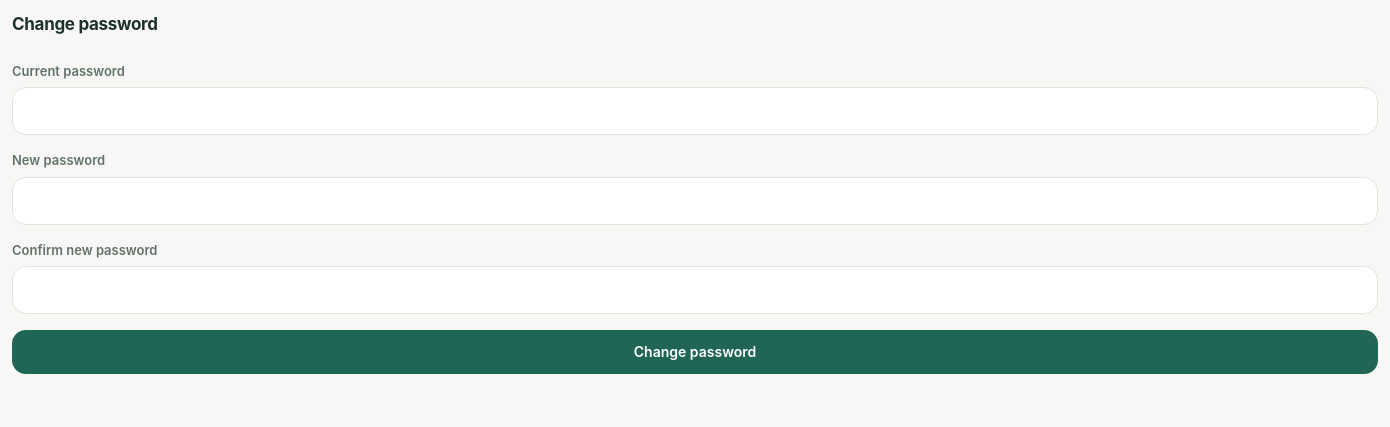
Test: ChangePasswordForm › a policy rejection clears the new-password fields; unknown errors keep every field
The image size is (1390, 427).
In the password field with test id "pw-current": (695, 111) left=12, top=87, right=1378, bottom=135, type "old-password"
In the password field with test id "pw-new": (695, 200) left=12, top=176, right=1378, bottom=224, type "new-password"
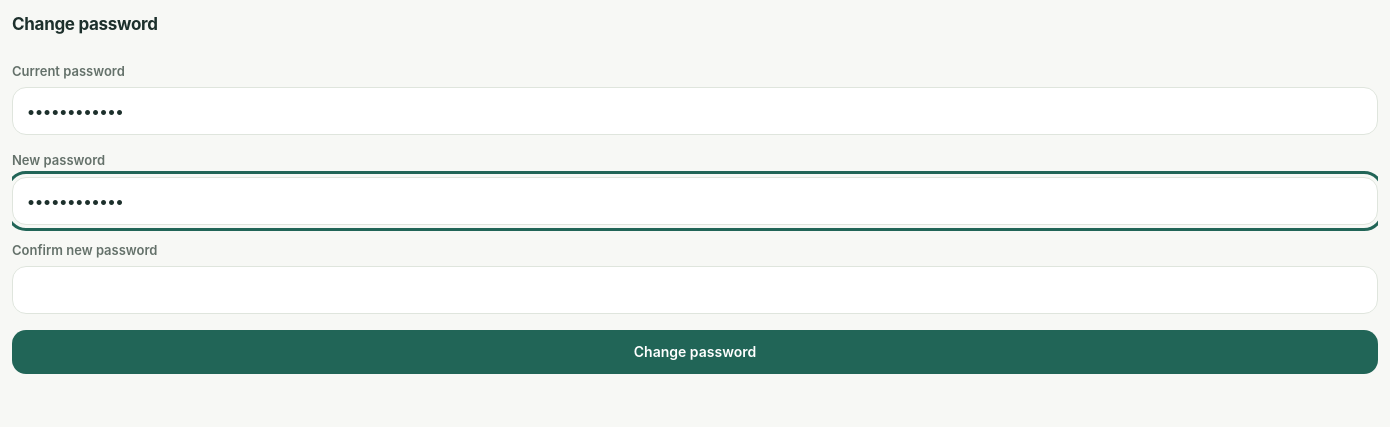
In the password field with test id "pw-confirm": (695, 290) left=12, top=266, right=1378, bottom=314, type "new-password"
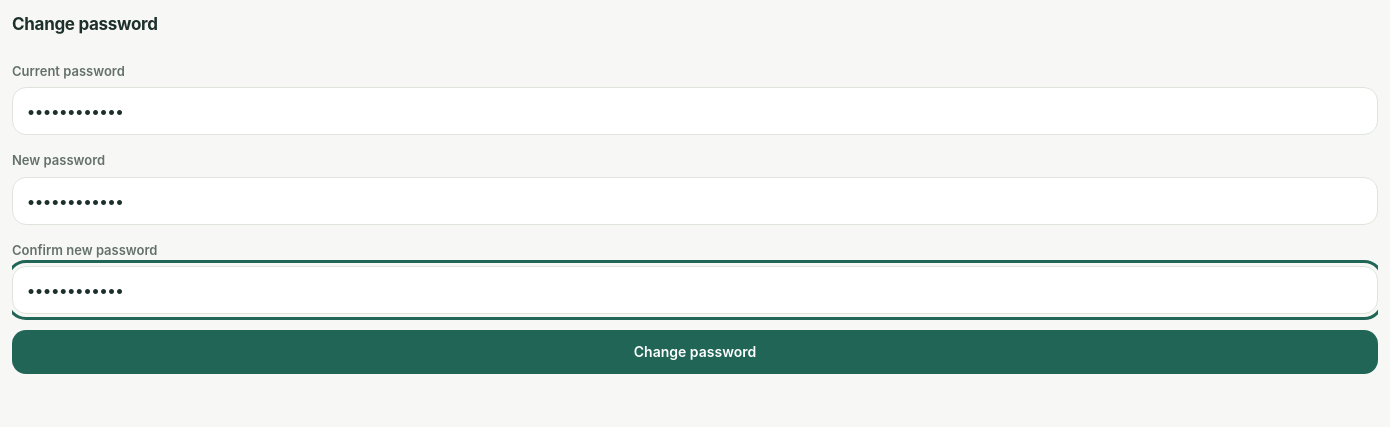
Click the button with test id "pw-submit": (695, 352) left=12, top=330, right=1378, bottom=374
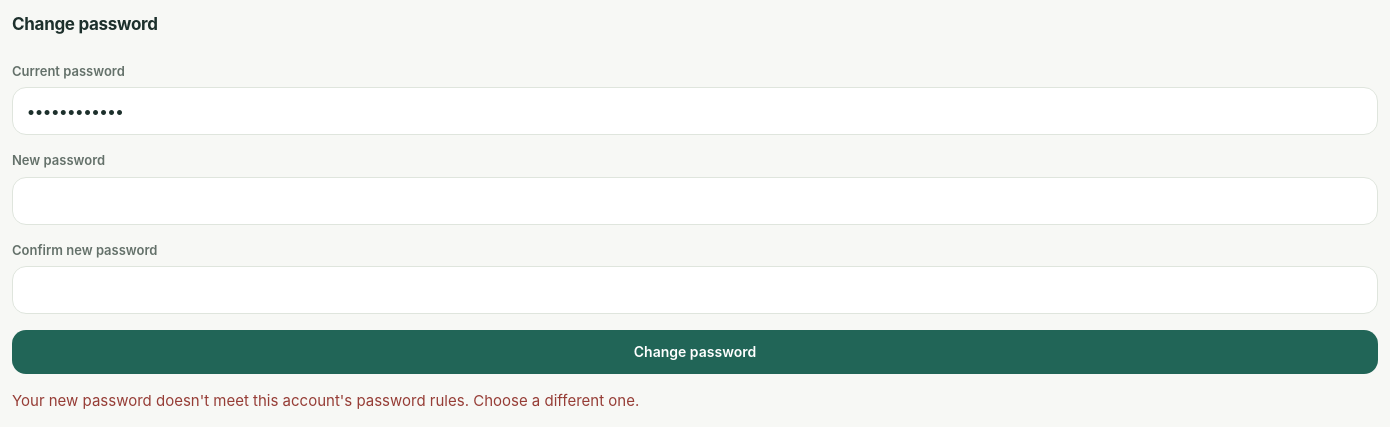
Expected: the password field with test id "pw-new" is empty
Expected: the password field with test id "pw-confirm" is empty, left=12, top=266, right=1378, bottom=314
In the password field with test id "pw-new": (695, 200) left=12, top=176, right=1378, bottom=224, type "another-password"
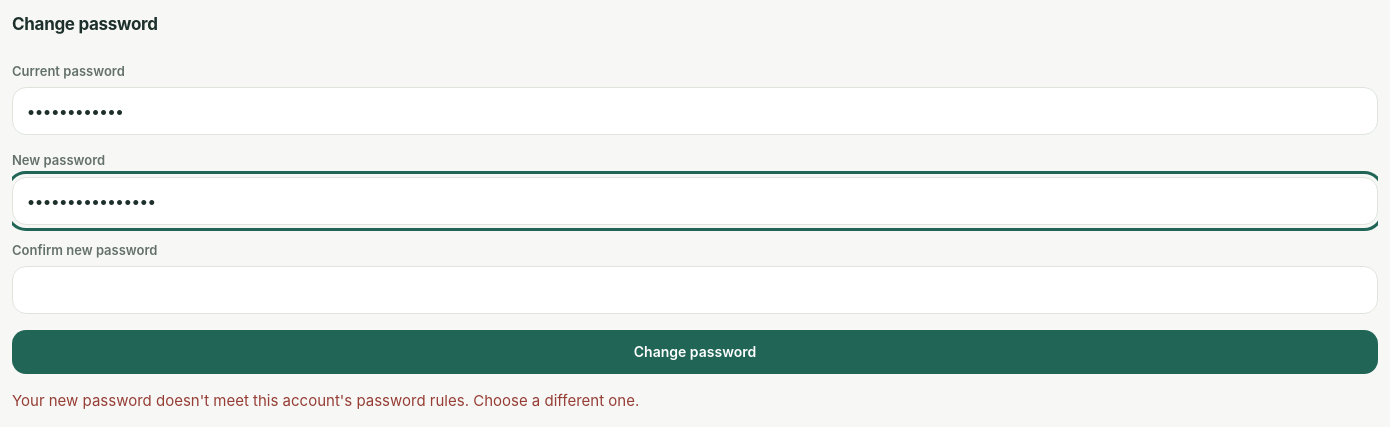
In the password field with test id "pw-confirm": (695, 290) left=12, top=266, right=1378, bottom=314, type "another-password"
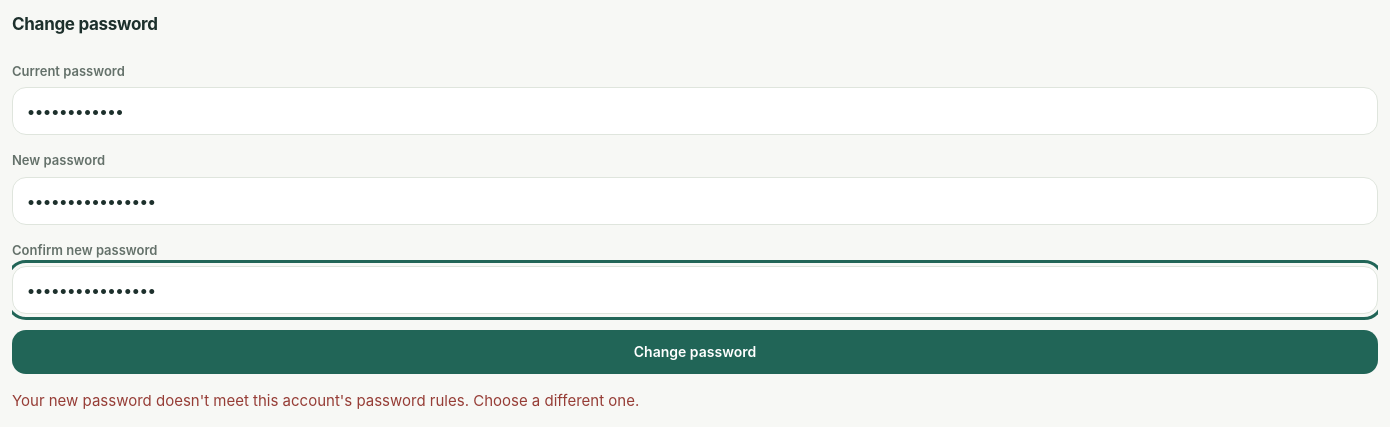
Click the button with test id "pw-submit": (695, 352) left=12, top=330, right=1378, bottom=374
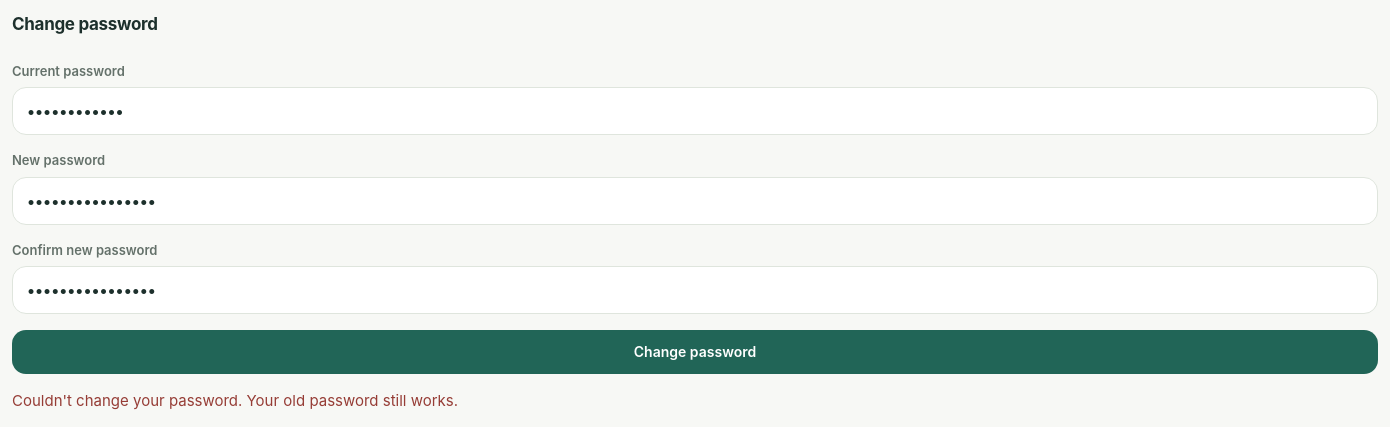
Expected: the message with test id "pw-outcome" reads "Couldn't change your password. Your old password still works.", left=12, top=391, right=458, bottom=410
